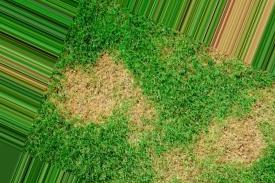patch: (58, 66, 144, 132), (155, 117, 265, 166)
